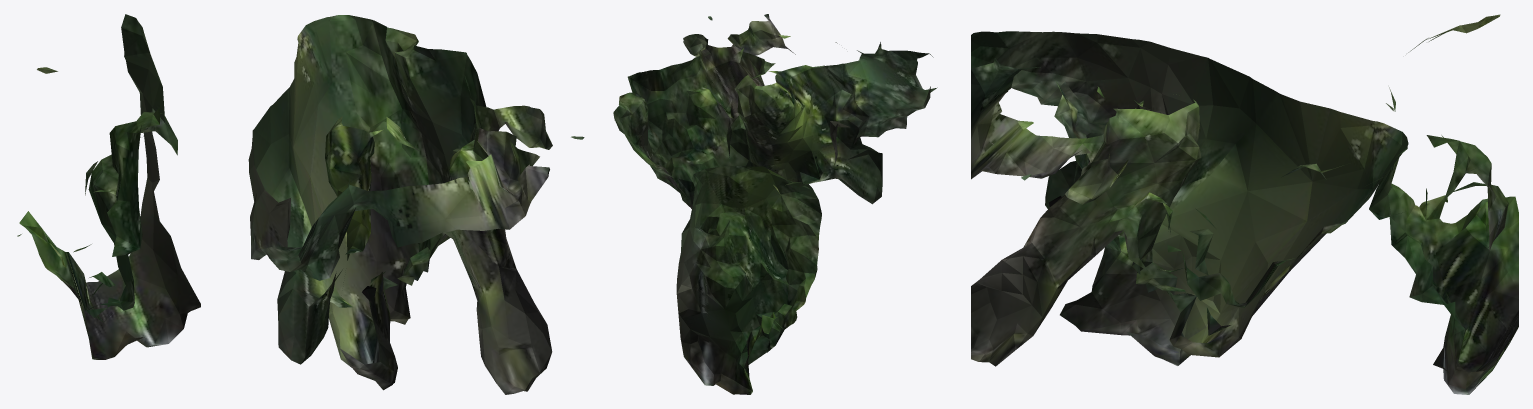
The picture shows the model from 3 angles, left to right: view 1: azimuth 30°, elevation 25°; view 2: azimuth 150°, elevation 25°; view 3: azimuth 270°, elevation 25°; orthographic projection. The views are drawn at different scales.
Size of the model in its own units: 18.62 by 17.13 by 26.11.
4 materials, 4 textured.
